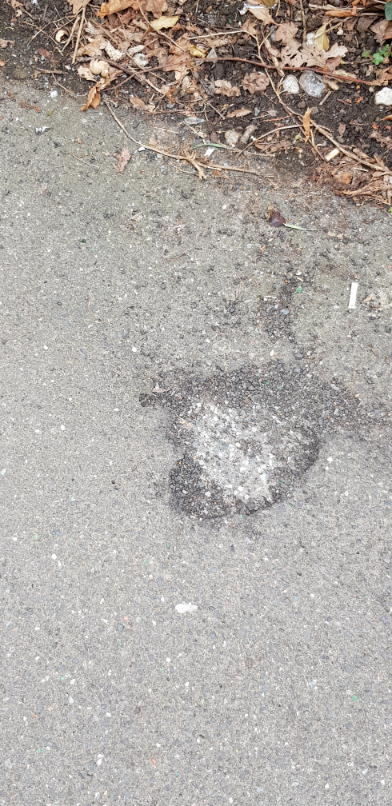pothole: (145, 356, 326, 524)
